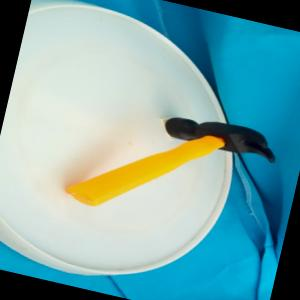martelo: (62, 88, 282, 244)
